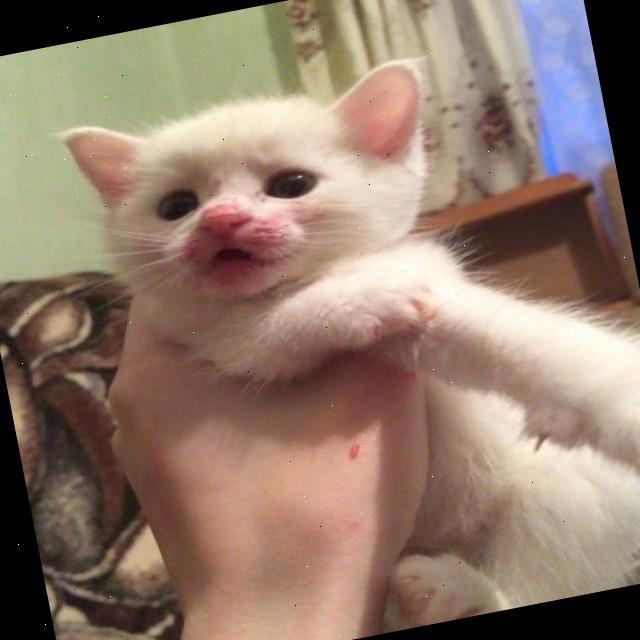cat: (53, 15, 640, 559)
